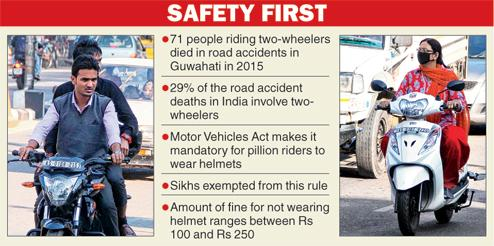nohelmet: (67, 59, 105, 100), (412, 36, 450, 75), (68, 38, 109, 73)
